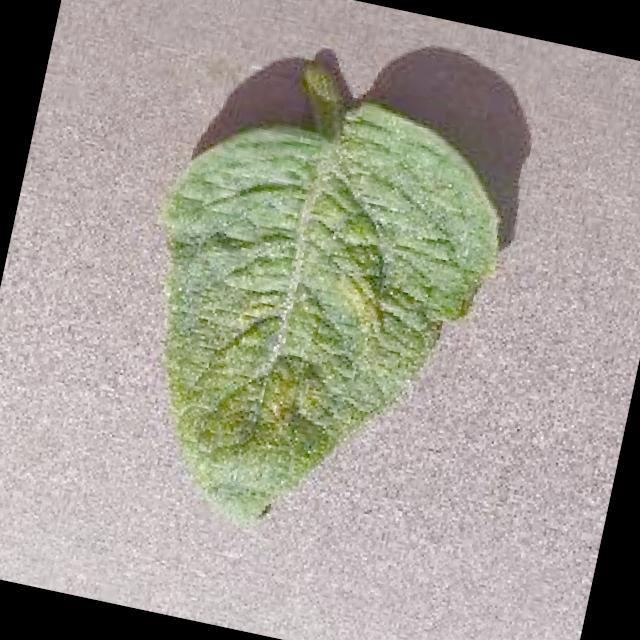Tomato spider mites leaf: (104, 62, 522, 565)
